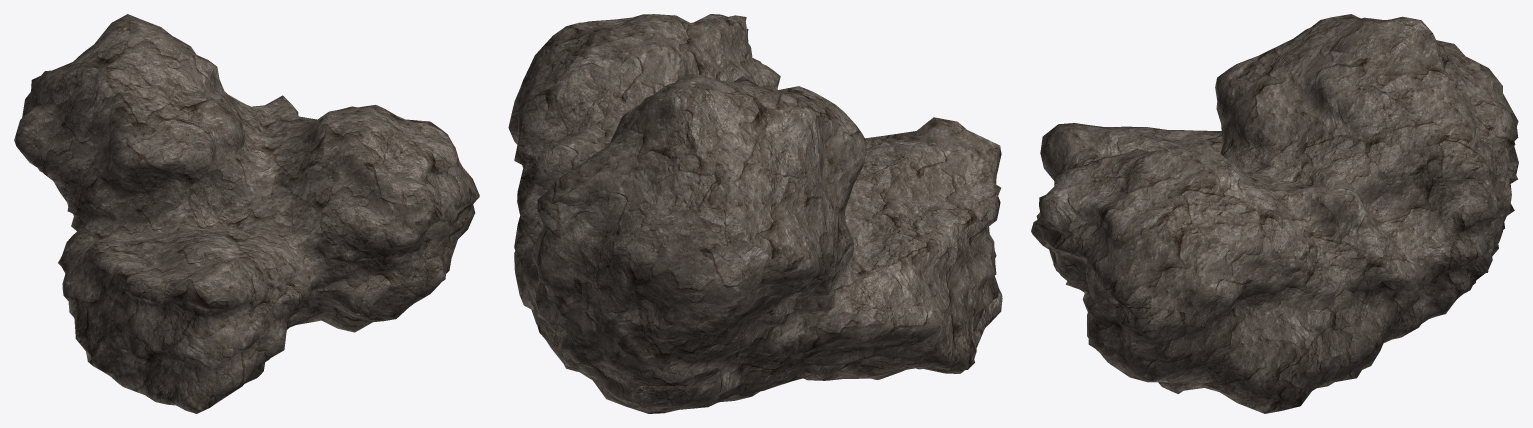
File: cascajo_rock_2.glb
3 views of the same model, side by side, from view 1: azimuth 30°, elevation 25°; view 2: azimuth 150°, elevation 25°; view 3: azimuth 270°, elevation 25° (orthographic). The views are drawn at different scales.
Visible parts, largest first — view 1: rock_2; view 2: rock_2; view 3: rock_2.
Boxes of the visible parts, box(x1,y1,x2,y2) form: rock_2: box(14, 14, 479, 413); rock_2: box(508, 14, 1002, 413); rock_2: box(1031, 14, 1518, 413).
Size of the model in its own units: 0.9674 by 0.72 by 1.
Materials: 1 (1 with a texture image).
